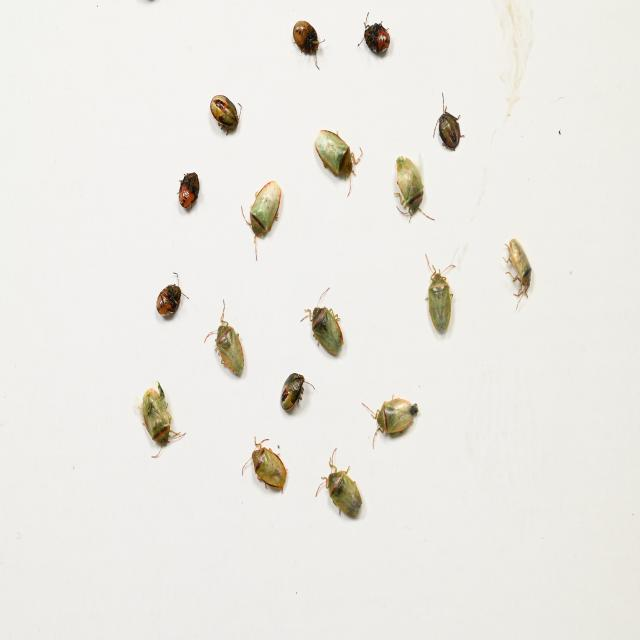stinkbug: (313, 443, 365, 529), (240, 169, 284, 263), (133, 379, 186, 457), (309, 124, 364, 196), (390, 150, 437, 233), (298, 284, 350, 358), (200, 300, 246, 380), (363, 390, 423, 448), (421, 253, 458, 340), (241, 433, 288, 500), (502, 234, 532, 311)
